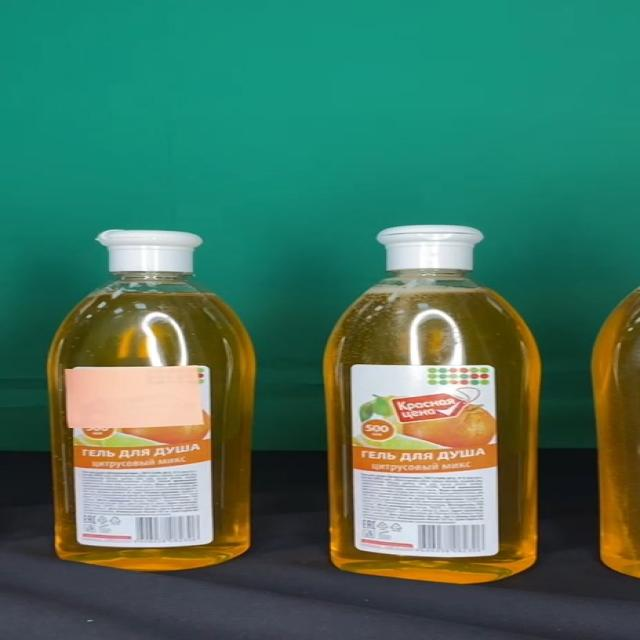Bottle: (324, 225, 540, 585), (47, 230, 255, 571)
Cap: (378, 225, 483, 269), (97, 230, 203, 273)
